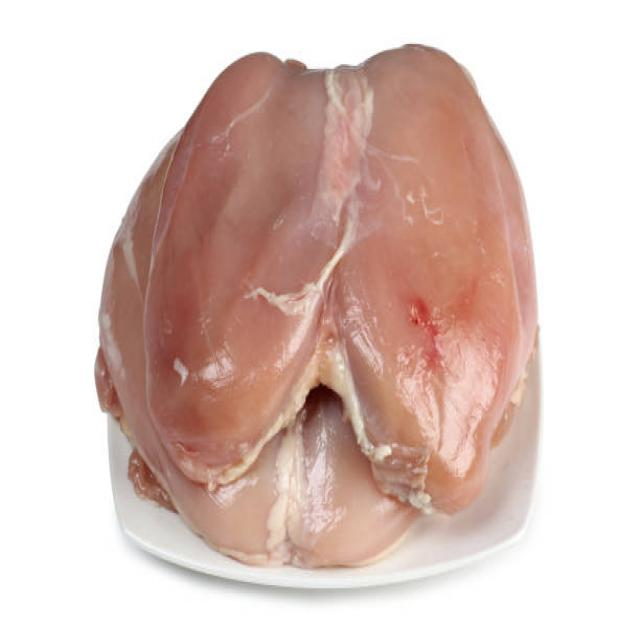Chicken: (85, 31, 584, 576)
